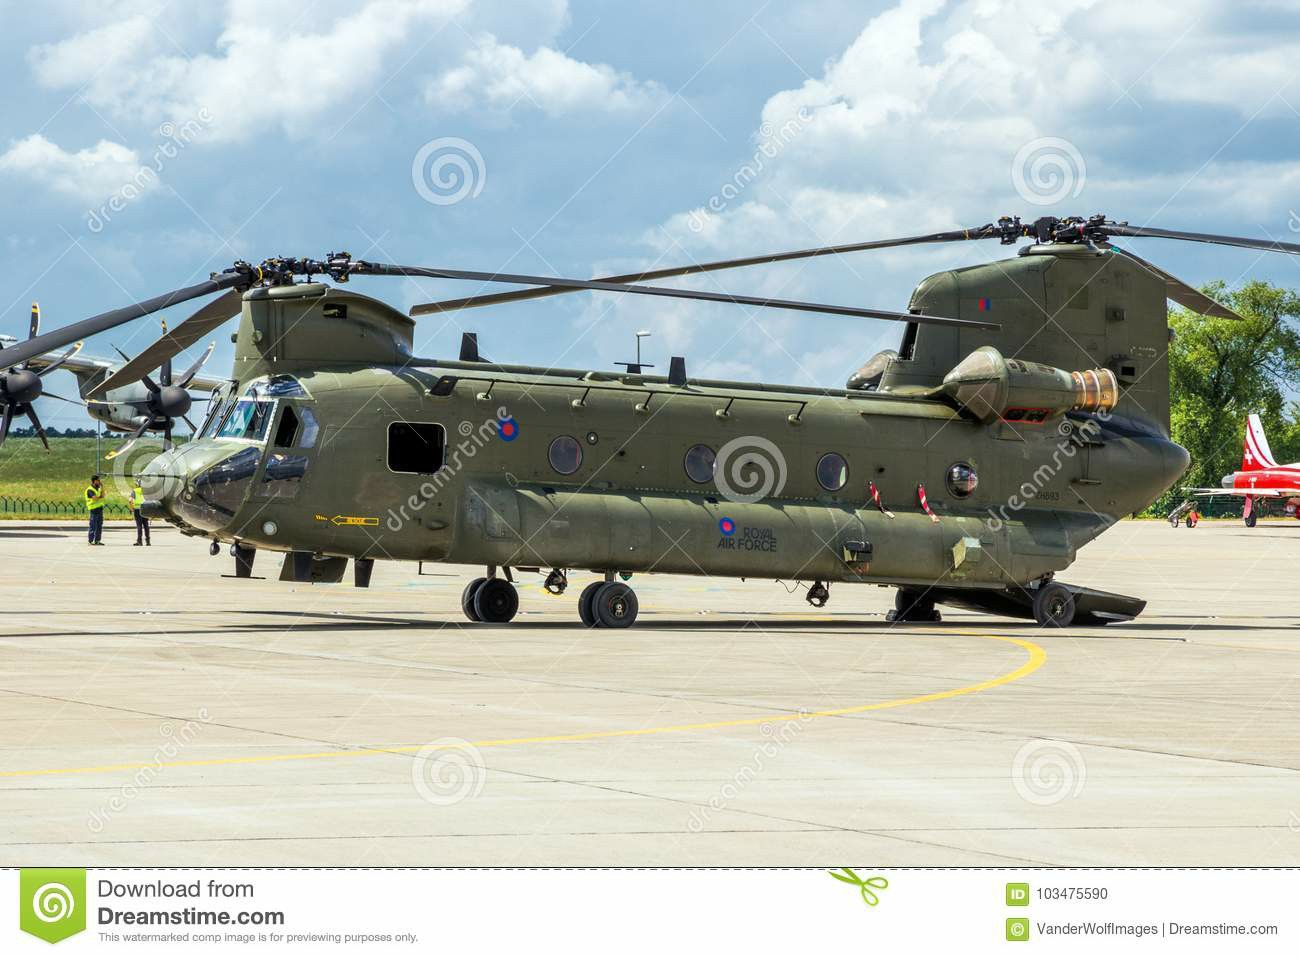chinook: (63, 211, 1277, 637)
